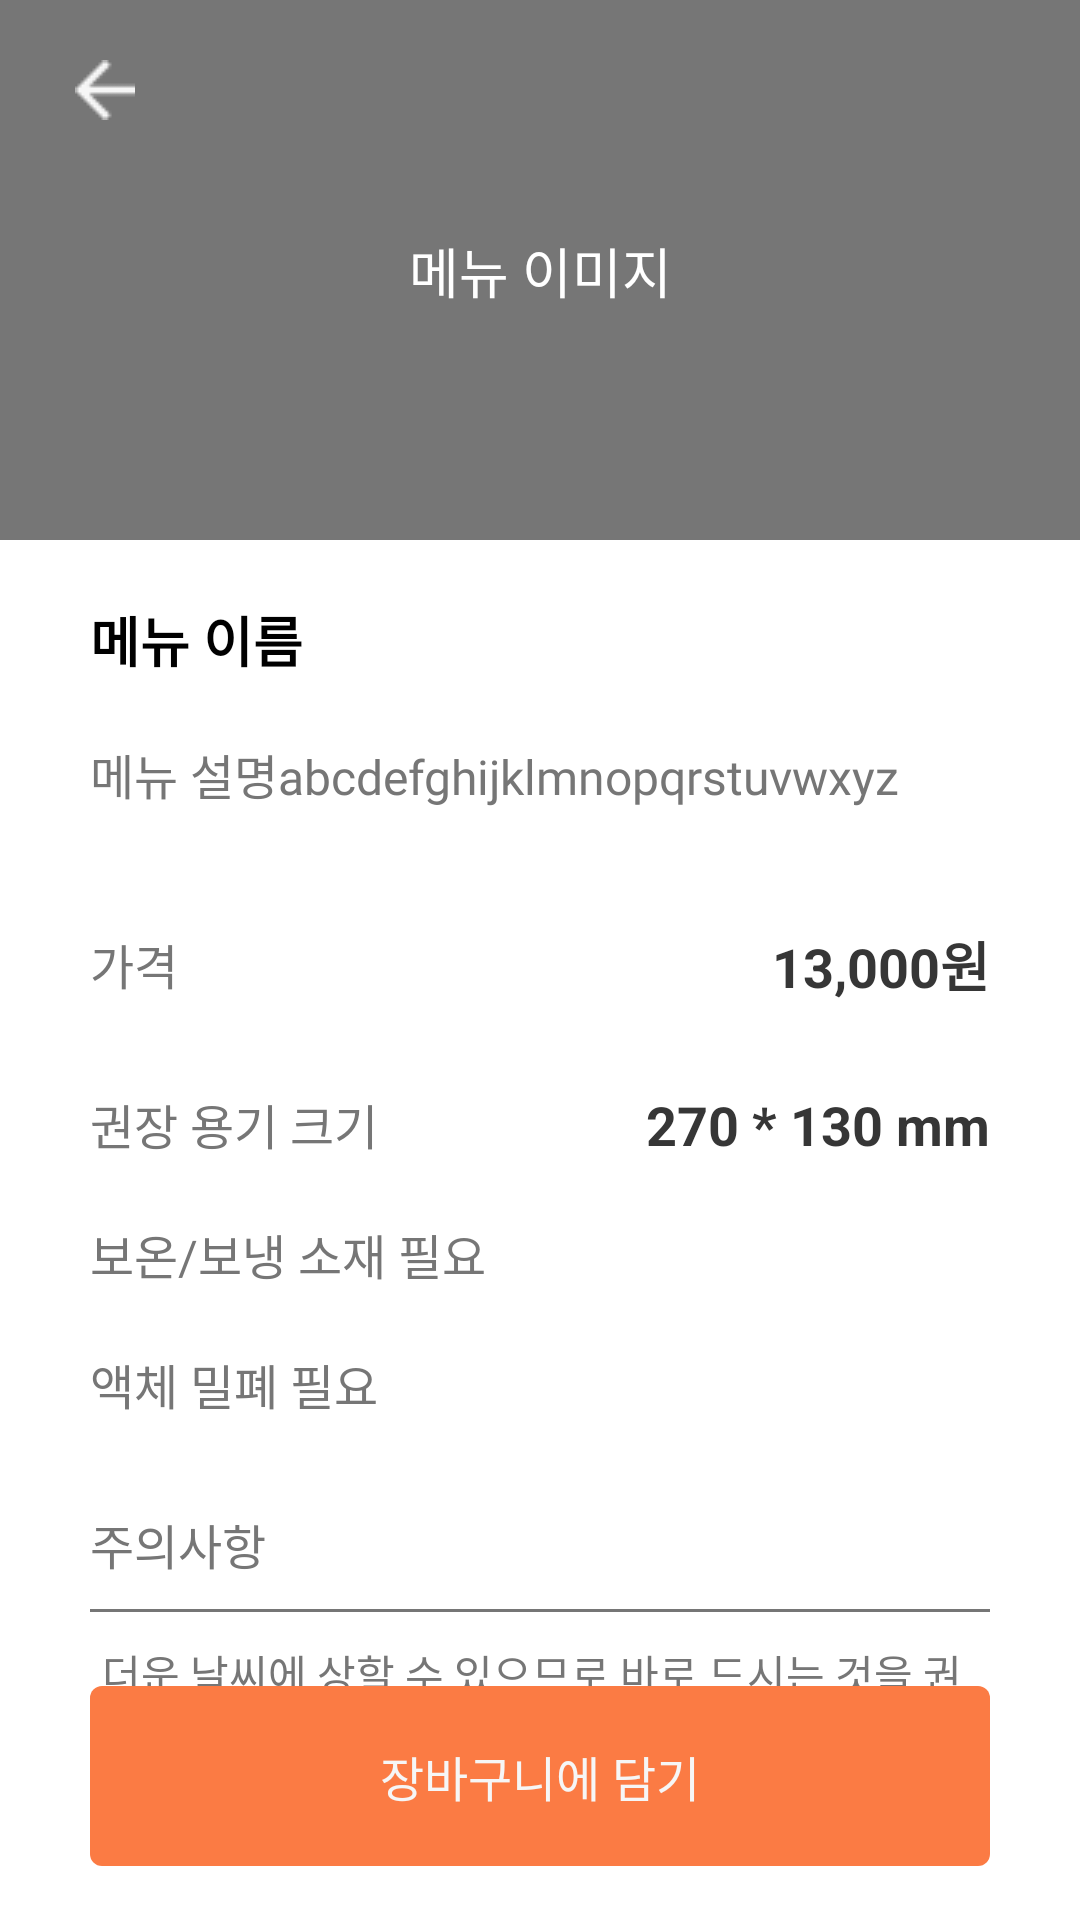

Icon bounding boxes for this 1080w x 1920h phone screenshot, format {"x1": x1, "y1": y1, "x2": x2, "y2": y2}:
back: {"x1": 75, "y1": 60, "x2": 135, "y2": 120}
